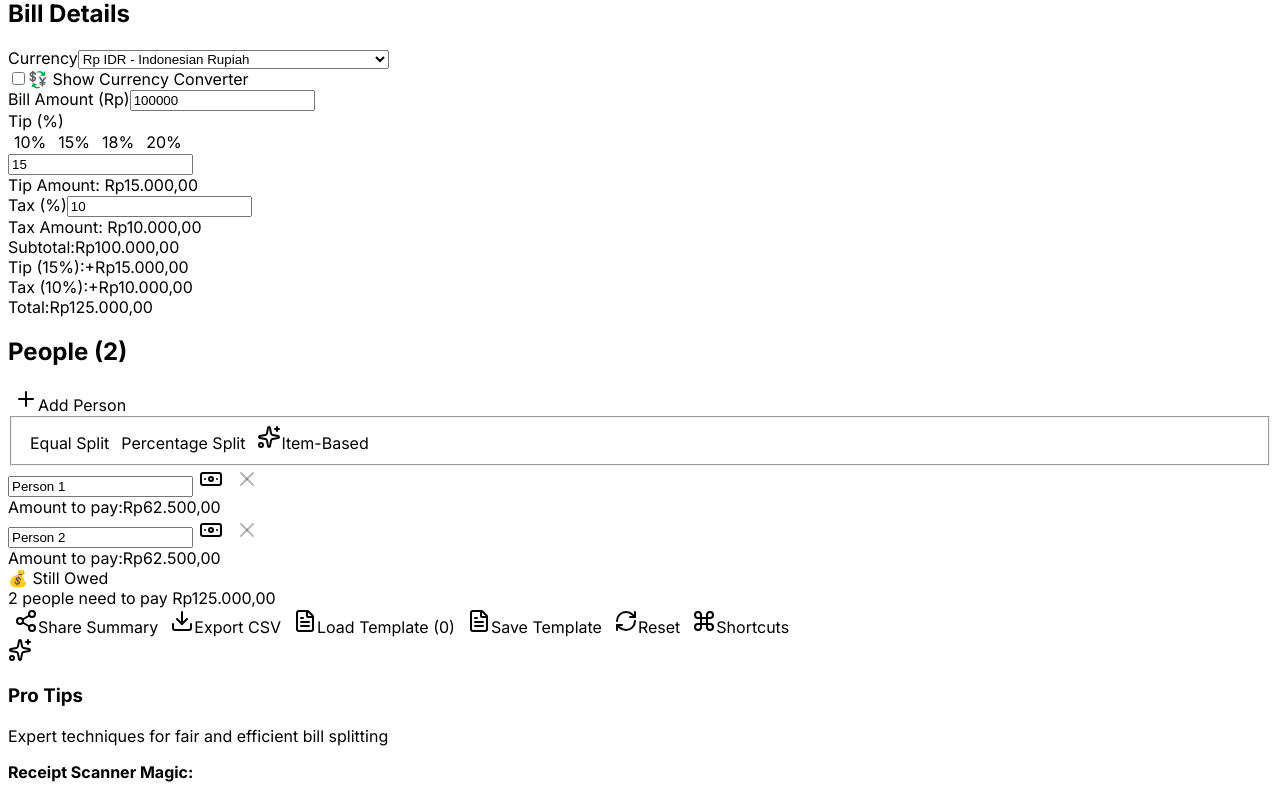
it: Split Bill Calculator Page › People Management › should allow adding a person
(page scrolled)
Click the button "Add Person" at (70, 401), box top-left (8, 386), bottom-right (132, 416)
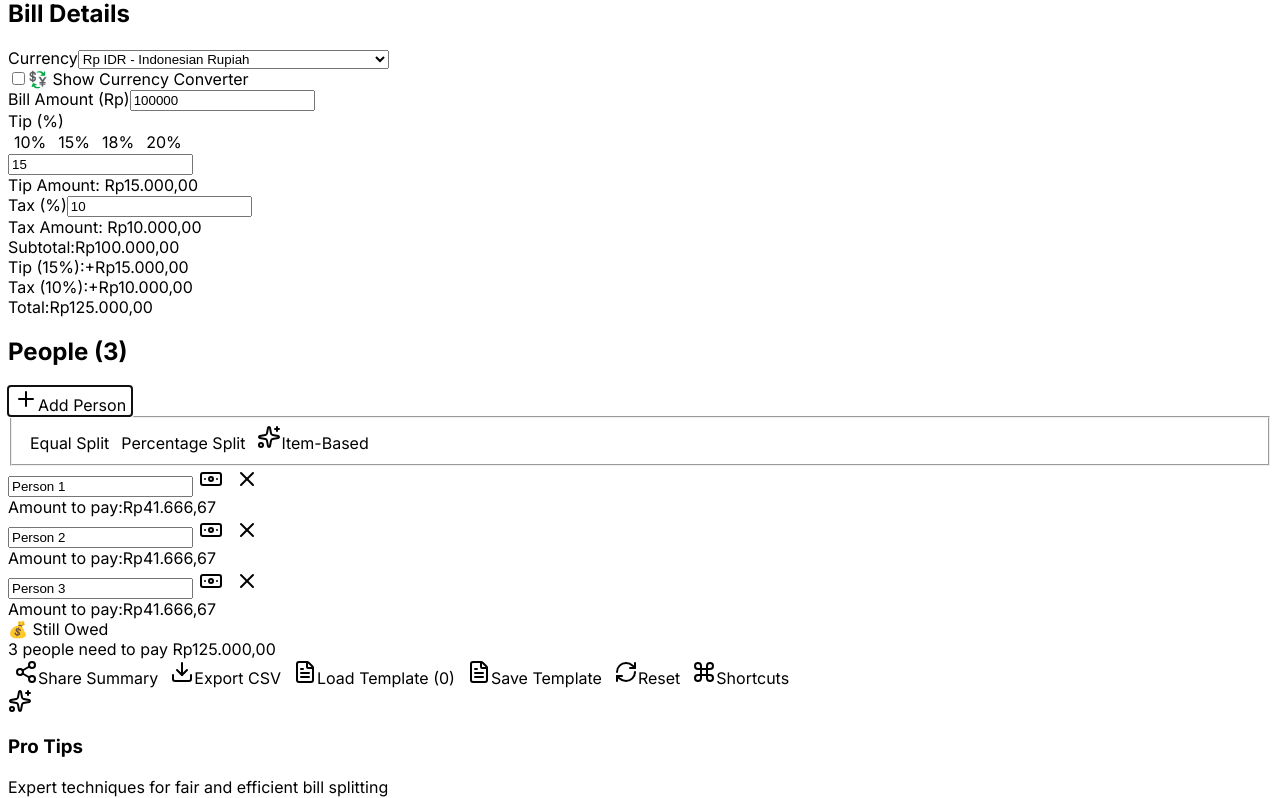
Result: the field showing "Person 3" is shown at top-left (8, 578), bottom-right (193, 598)
